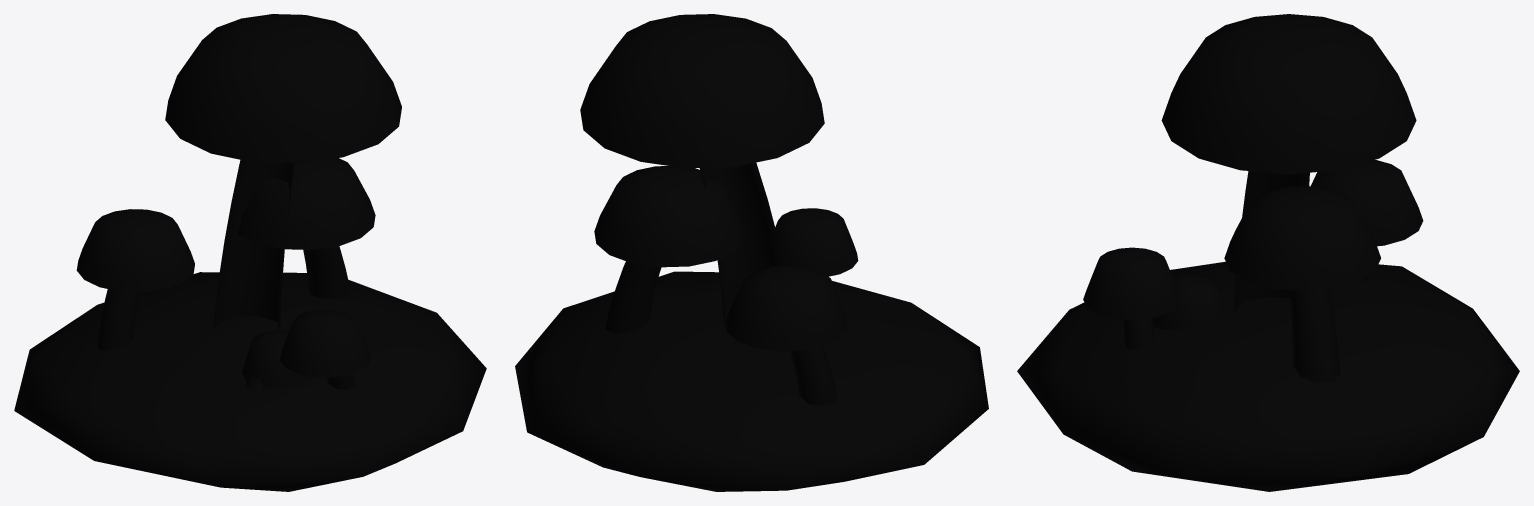
File: mushroom_cluster_01.glb
The picture shows the model from 3 angles, left to right: view 1: azimuth 30°, elevation 25°; view 2: azimuth 150°, elevation 25°; view 3: azimuth 270°, elevation 25°; orthographic projection. The views are drawn at different scales.
Visible parts, largest first — view 1: mushroom_cluster_01; view 2: mushroom_cluster_01; view 3: mushroom_cluster_01.
Part boxes in pixels (x1,y1,x2,y2): mushroom_cluster_01: (14, 14, 486, 491); mushroom_cluster_01: (515, 14, 988, 491); mushroom_cluster_01: (1017, 14, 1519, 491).
Bounding box in the file's own units: 0.4999 × 0.4411 × 0.5129.
1 material, 1 textured.
